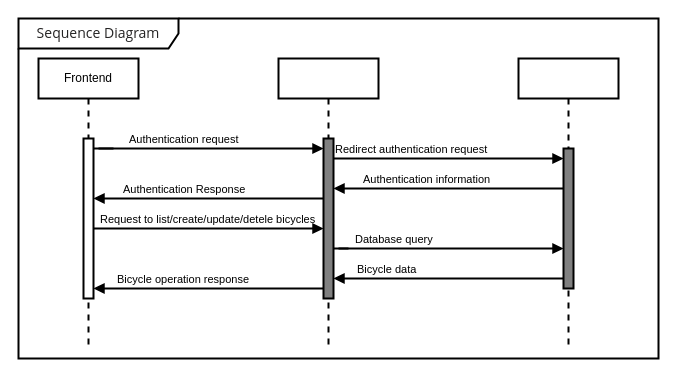
The diagram is 676 pixels wide and 376 high, and some of its shapes have lost their labels. The box of each missing label's shape, as (x1, y1, x2, y2) in pixels:
Database: (517, 57, 619, 349)
Microservice(s): (277, 57, 379, 349)
